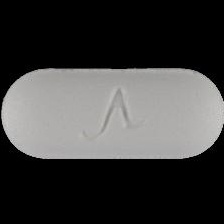68788-9735: (0, 0, 224, 224)
